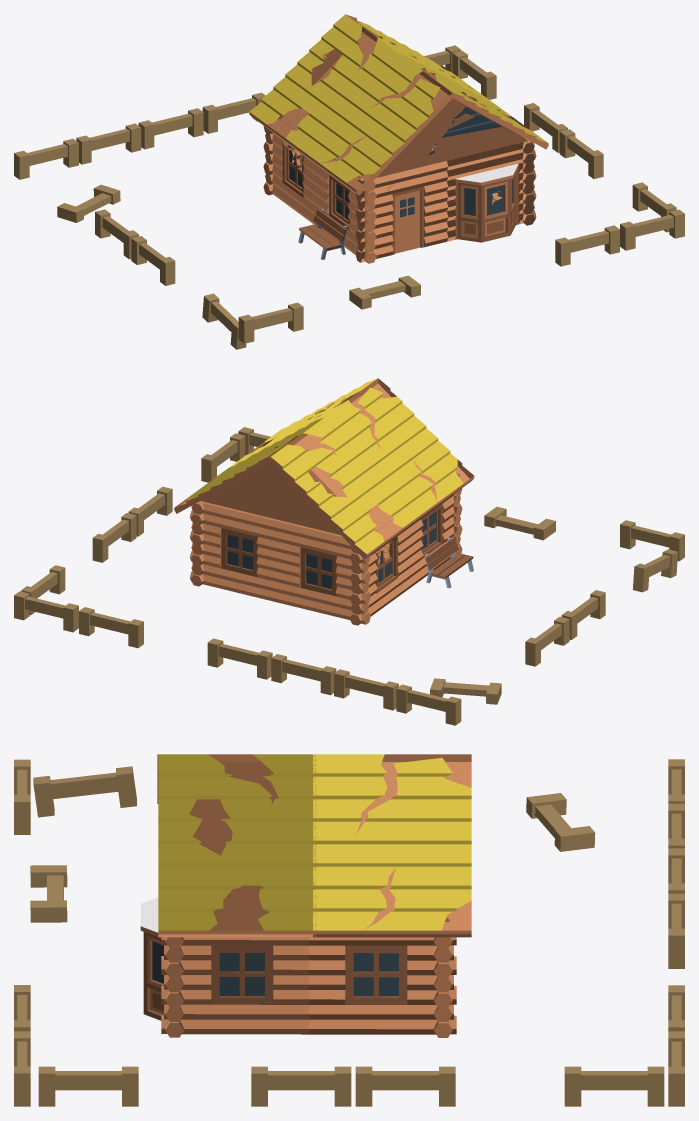
File: hütte_kaputt.obj
3 renders of one model, top to bottom at view 1: azimuth 30°, elevation 25°; view 2: azimuth 150°, elevation 25°; view 3: azimuth 270°, elevation 25°, orthographic. The views are drawn at different scales.
Parts seen in each view (by area): view 1: cabinRoof_1, cabinRoof_1_1, cabinSideCenter, frame_2, cabinDoor, cabinWindowLarge, cabinWindow_1.1, cabinRoof_1.1, door, cabinCorner_1_1, cabinWindow_1.2, Mesh1_Wood_Fence_Model.2 (+21 smaller); view 2: cabinRoof_1_1, cabinRoof_1, cabinWindow_1.3, cabinWindow_1.4, cabinSideCenter_1, cabinRoof_1.2, cabinWindow_1.1, cabinWindow_1.2, frame.4, frame.3, Mesh1_Wood_Fence_Model.9, Mesh1_Wood_Fence_Model.12 (+19 smaller); view 3: cabinRoof_1.2, cabinRoof_1.1, cabinWindow_1_1, cabinWindow_1, frame, frame_1, Mesh1_Wood_Fence_Model.16, Mesh1_Wood_Fence_Model.3, Mesh1_Wood_Fence_Model.21, Mesh1_Wood_Fence_Model.19, Mesh1_Wood_Fence_Model.18, frame_2 (+13 smaller).
Boxes of the visible parts, x1,y1,x2,y2 form: cabinRoof_1: (303, 53, 452, 195); cabinRoof_1_1: (249, 14, 398, 155); cabinSideCenter: (376, 98, 527, 177); frame_2: (455, 163, 518, 242); cabinDoor: (373, 161, 448, 258); cabinWindowLarge: (447, 142, 523, 241); cabinWindow_1.1: (272, 119, 317, 225); cabinRoof_1.1: (399, 53, 548, 149); door: (395, 190, 420, 253); cabinCorner_1_1: (355, 178, 376, 263); cabinWindow_1.2: (314, 158, 362, 254); Mesh1_Wood_Fence_Model.2: (238, 302, 303, 343); cabinRoof_1_1: (270, 417, 421, 559); cabinRoof_1: (325, 378, 474, 519); cabinWindow_1.3: (202, 502, 280, 602); cabinWindow_1.4: (277, 520, 352, 619); cabinSideCenter_1: (201, 462, 340, 534); cabinRoof_1.2: (174, 417, 323, 513); cabinWindow_1.1: (367, 519, 411, 616); cabinWindow_1.2: (409, 488, 456, 588); frame.4: (300, 547, 336, 596); frame.3: (221, 528, 257, 577); Mesh1_Wood_Fence_Model.9: (396, 684, 461, 725); Mesh1_Wood_Fence_Model.12: (207, 638, 272, 679); cabinRoof_1.2: (313, 754, 471, 937); cabinRoof_1.1: (158, 754, 316, 937); cabinWindow_1_1: (180, 937, 309, 1034); cabinWindow_1: (309, 937, 437, 1034); frame: (345, 945, 407, 1004); frame_1: (211, 945, 273, 1004); Mesh1_Wood_Fence_Model.16: (564, 1066, 664, 1106); Mesh1_Wood_Fence_Model.3: (33, 766, 136, 817); Mesh1_Wood_Fence_Model.21: (38, 1066, 138, 1106); Mesh1_Wood_Fence_Model.19: (251, 1066, 351, 1106); Mesh1_Wood_Fence_Model.18: (355, 1066, 455, 1106); frame_2: (140, 897, 163, 1020).
Size of the model in its own units: 5.53 by 1.97 by 4.99.
